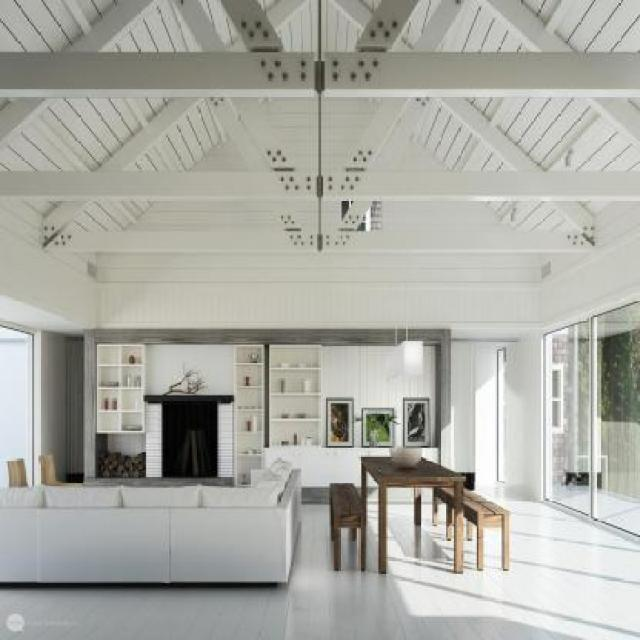Floor: (0, 498, 640, 640)
